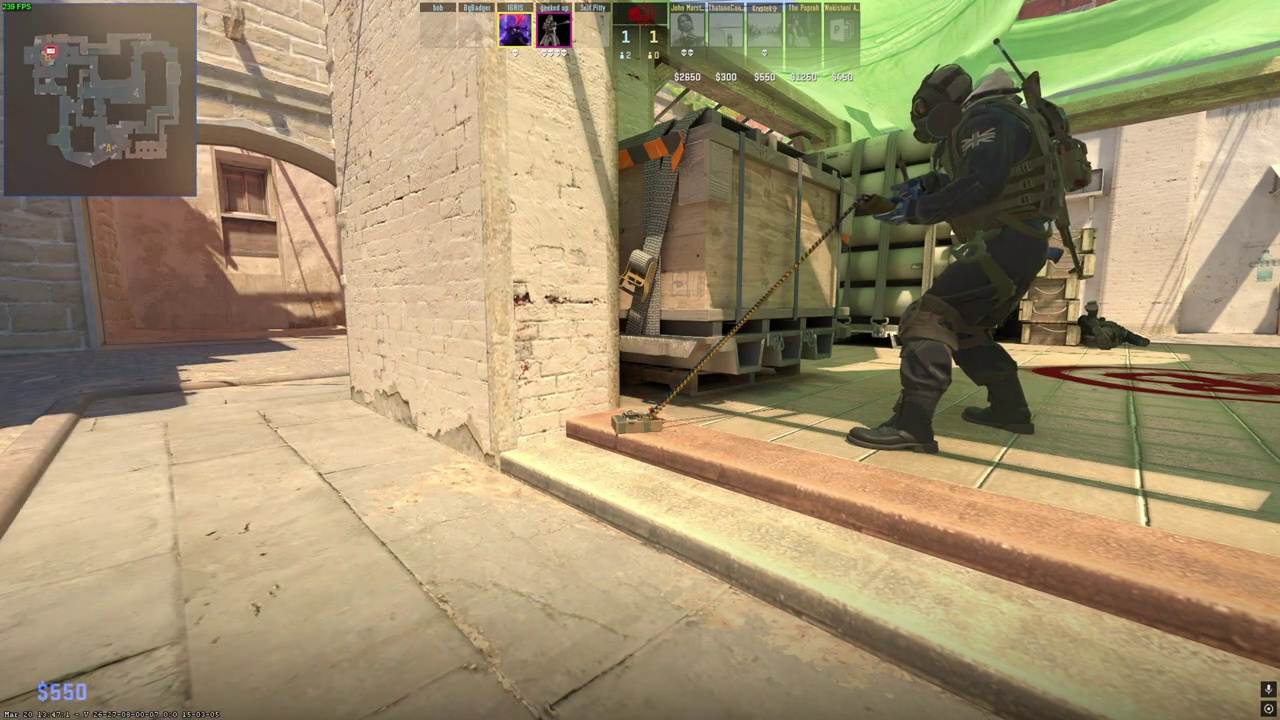CT: (867, 60, 1069, 464)
